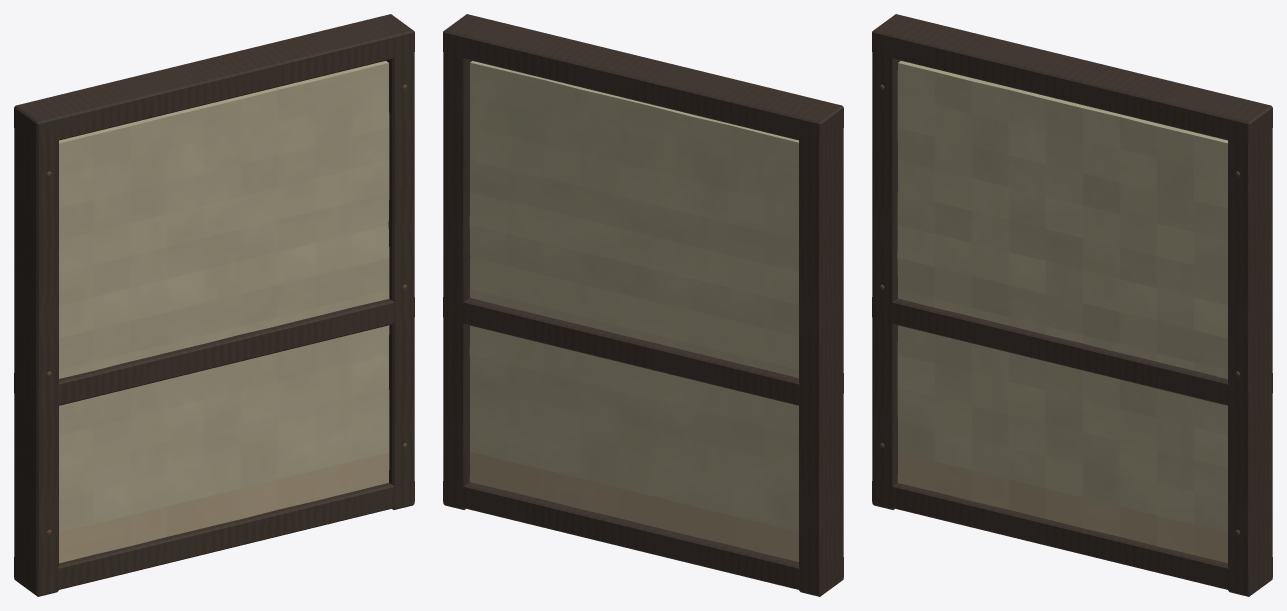
Rendered from AR_Wall_Plaster_2m.glb.
3 renders of one model, left to right at view 1: azimuth 30°, elevation 25°; view 2: azimuth 150°, elevation 25°; view 3: azimuth 330°, elevation 25°, orthographic.
Parts seen in each view (by area): view 1: AR_Wall_Plaster_2m; view 2: AR_Wall_Plaster_2m; view 3: AR_Wall_Plaster_2m.
Boxes of the visible parts, bbox=[...] form: AR_Wall_Plaster_2m: bbox=[14, 14, 414, 596]; AR_Wall_Plaster_2m: bbox=[443, 14, 843, 596]; AR_Wall_Plaster_2m: bbox=[872, 14, 1272, 596].
Bounding box in the file's own units: 2 × 2.4 × 0.23.
4 materials, 4 textured.
